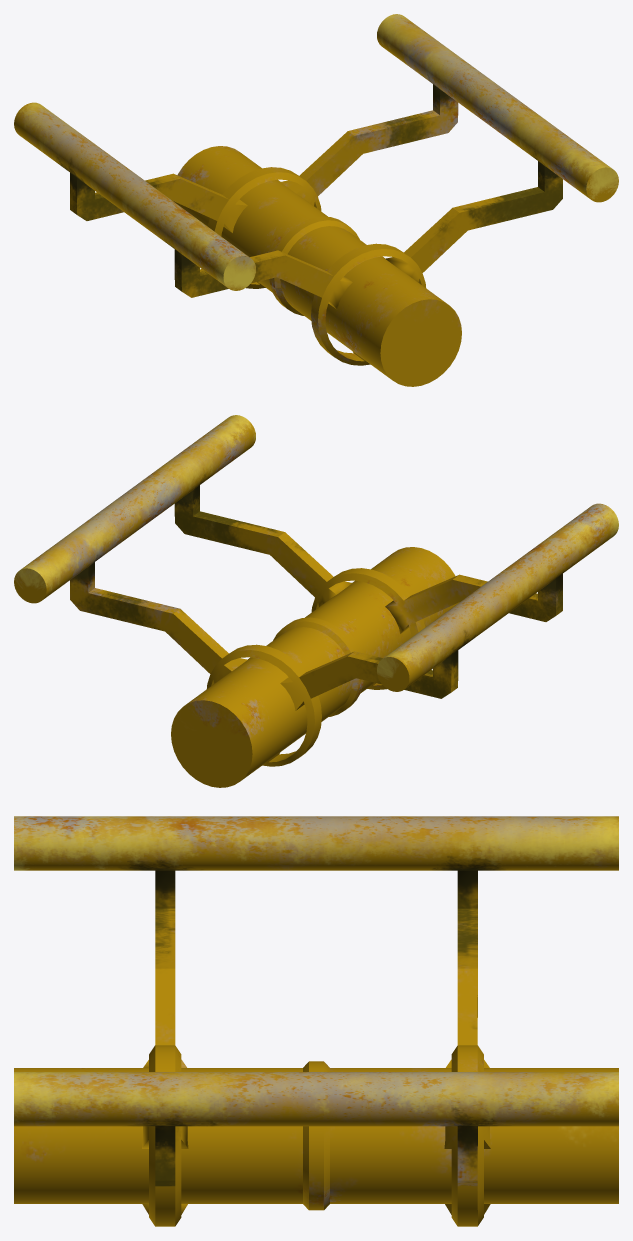
Rendered from track006.fbx.
3 renders of one model, top to bottom at view 1: azimuth 30°, elevation 25°; view 2: azimuth 150°, elevation 25°; view 3: azimuth 270°, elevation 25°, orthographic. The views are drawn at different scales.
Visible parts, largest first — view 1: Track Cylinder 1.006; view 2: Track Cylinder 1.006; view 3: Track Cylinder 1.006.
Boxes of the visible parts, left/top/right/bottom form: Track Cylinder 1.006: left=14, top=14, right=618, bottom=386; Track Cylinder 1.006: left=14, top=415, right=618, bottom=787; Track Cylinder 1.006: left=14, top=816, right=618, bottom=1226.
Bounding box in the file's own units: 109 × 49.5 × 100.
1 material, 1 textured.
